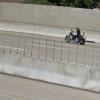Motorcycle: (60, 24, 94, 46)
